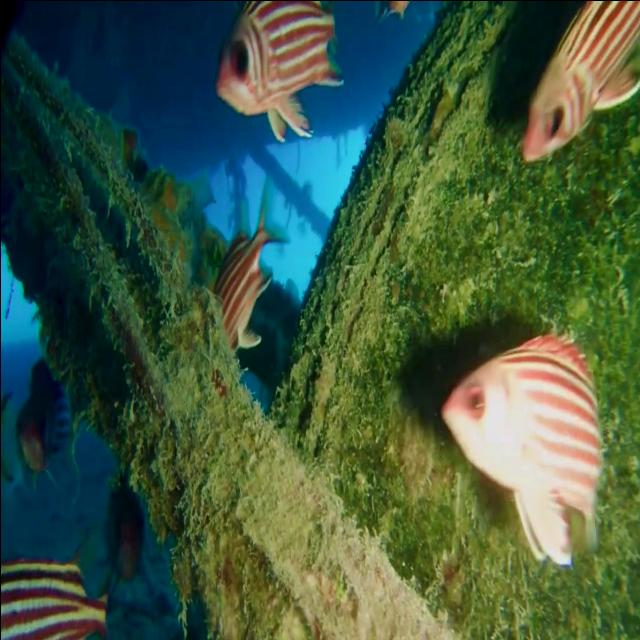Asker Baligi: (440, 328, 604, 569), (213, 0, 344, 143)
